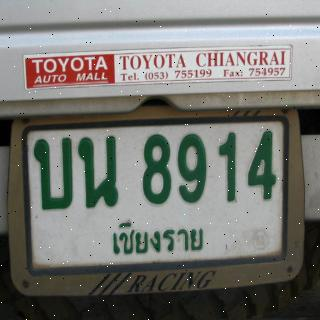license: (13, 107, 306, 299)
